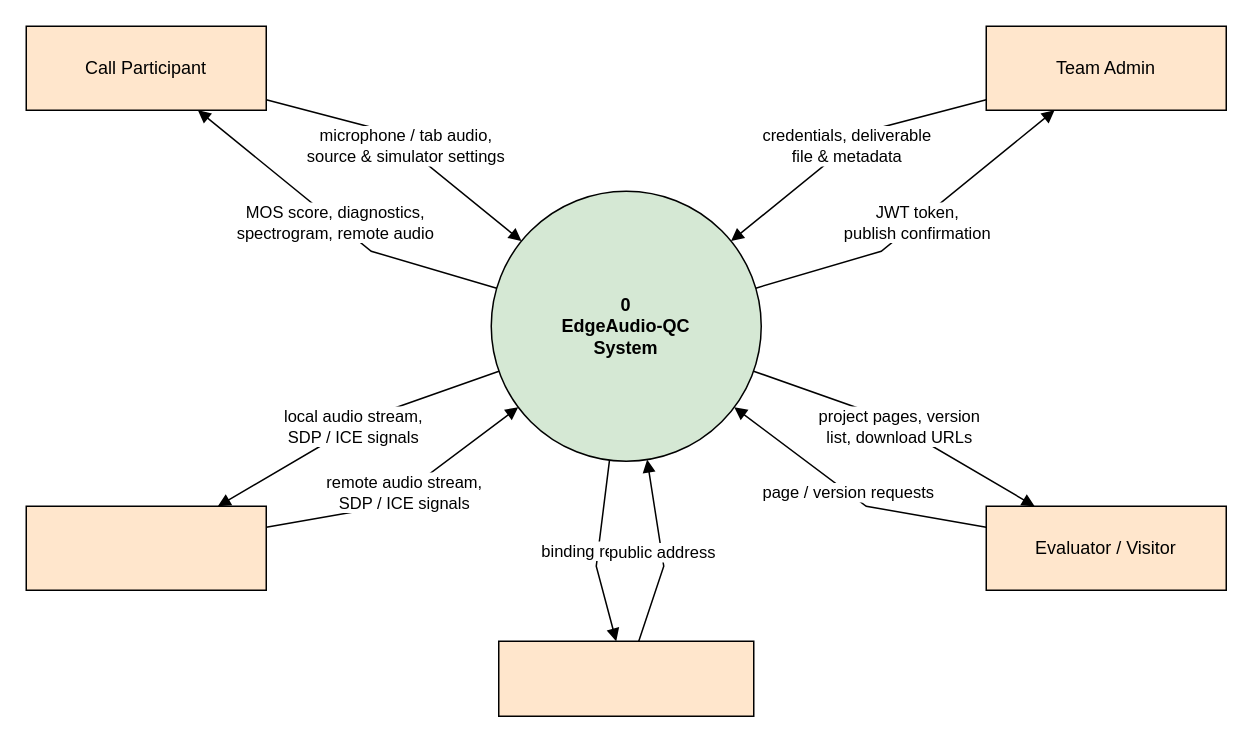
Some shapes in this 1253 by 743 pixel diagram are drawn without their labels. The centre of each missing label's shape, as x and y in pixels:
Remote Peer: the point at 145,547
STUN Server: the point at 625,678
